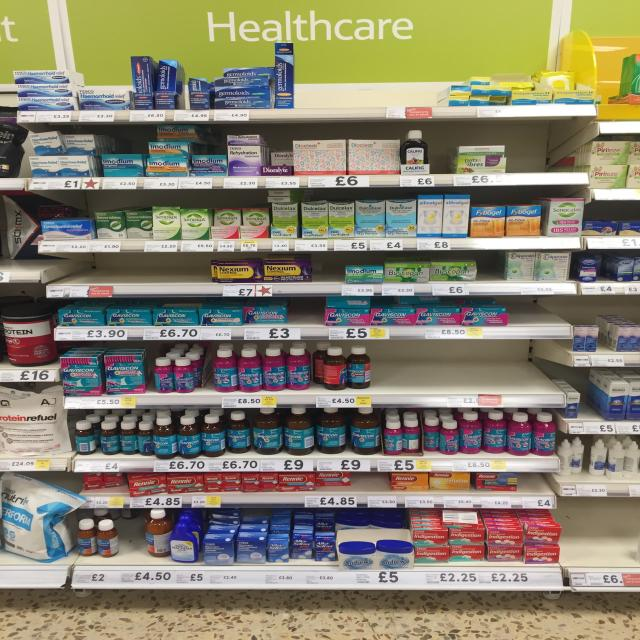void: (298, 45, 445, 107), (374, 345, 546, 394), (54, 255, 215, 287), (561, 501, 640, 566), (509, 126, 586, 172), (512, 299, 566, 325), (290, 296, 322, 324)
